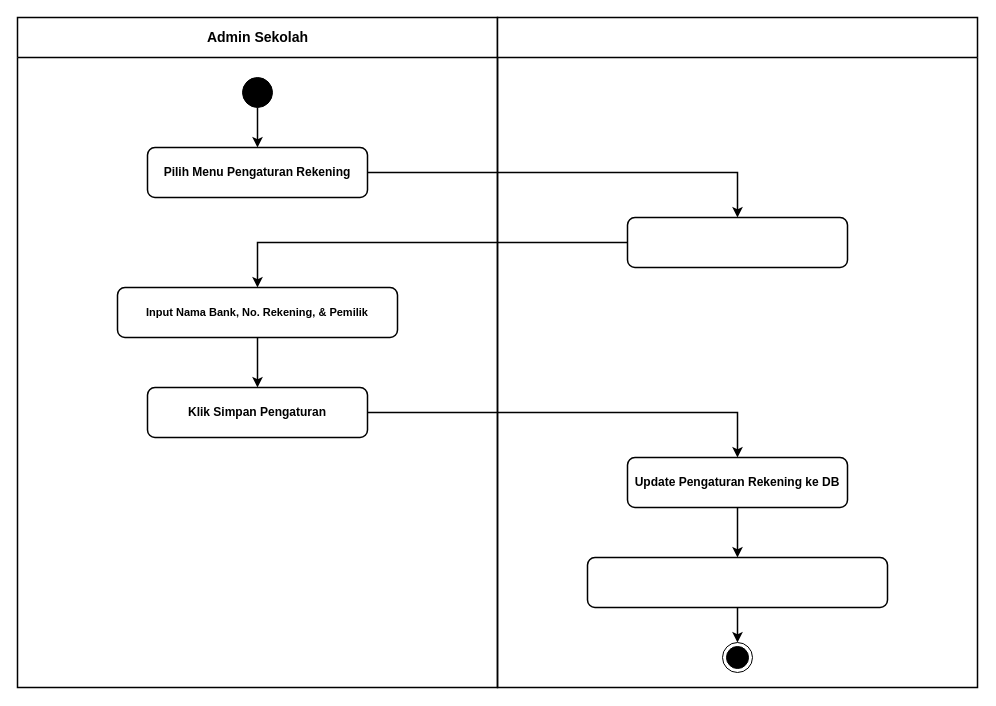
The diagram is 996 pixels wide and 706 high, and some of its shapes have lost their labels. The box of each missing label's shape, as (x1, y1, x2, y2) in pixels:
Sistem: (496, 16, 978, 688)
Tampilkan Rekening Bank Saat Ini: (626, 216, 848, 268)
Tampilkan Rekening Terbaru & Notifikasi Sukses: (586, 556, 888, 608)
